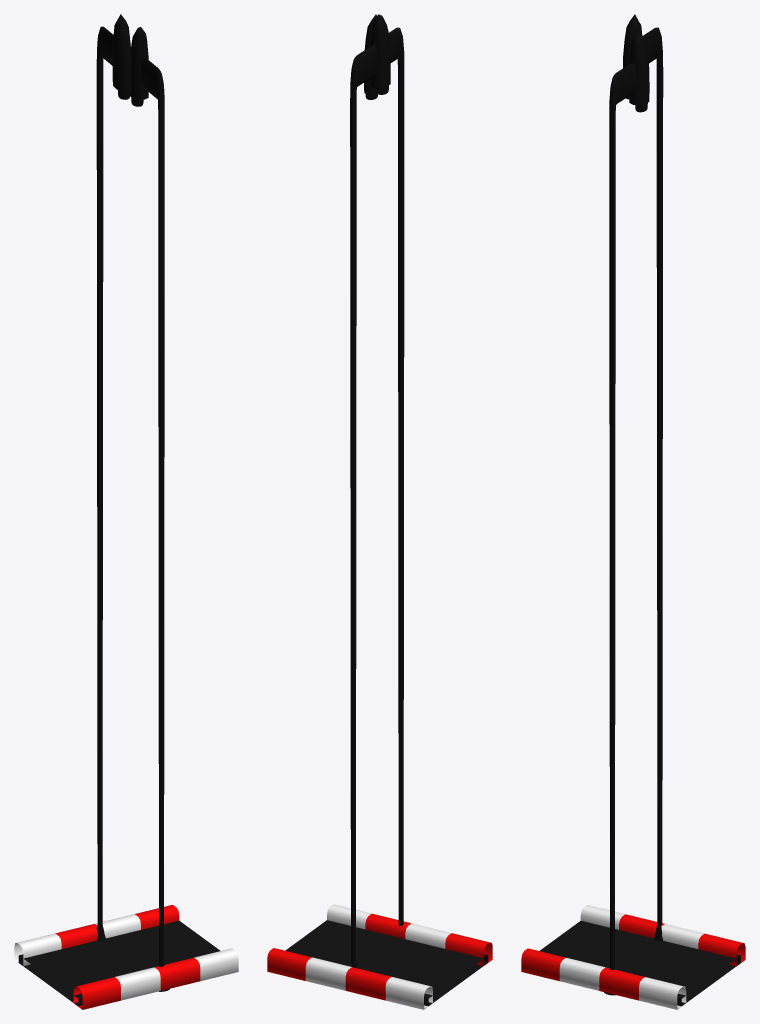
3 renders of one model, left to right at view 1: azimuth 30°, elevation 25°; view 2: azimuth 150°, elevation 25°; view 3: azimuth 330°, elevation 25°, orthographic.
Visible parts, largest first — view 1: StraightTrack01_Cube.001_StraightTrack01_Cube.001_StraightTrack0, rightLight_rightLight_rightLight_rightLight_rightLight_rightLig_, leftLight_leftLight_leftLight_leftLight_leftLight_leftLight_lef_; view 2: StraightTrack01_Cube.001_StraightTrack01_Cube.001_StraightTrack0, rightLight_rightLight_rightLight_rightLight_rightLight_rightLig_, leftLight_leftLight_leftLight_leftLight_leftLight_leftLight_lef_; view 3: StraightTrack01_Cube.001_StraightTrack01_Cube.001_StraightTrack0, leftLight_leftLight_leftLight_leftLight_leftLight_leftLight_lef_, rightLight_rightLight_rightLight_rightLight_rightLight_rightLig_.
Part boxes in pixels (box(x1,y1,x2,y2)): StraightTrack01_Cube.001_StraightTrack01_Cube.001_StraightTrack0: box(14, 905, 238, 1009); rightLight_rightLight_rightLight_rightLight_rightLight_rightLig_: box(96, 14, 131, 940); leftLight_leftLight_leftLight_leftLight_leftLight_leftLight_lef_: box(130, 27, 164, 966); StraightTrack01_Cube.001_StraightTrack01_Cube.001_StraightTrack0: box(267, 904, 492, 1009); rightLight_rightLight_rightLight_rightLight_rightLight_rightLig_: box(350, 14, 390, 967); leftLight_leftLight_leftLight_leftLight_leftLight_leftLight_lef_: box(364, 14, 404, 925); StraightTrack01_Cube.001_StraightTrack01_Cube.001_StraightTrack0: box(521, 905, 745, 1009); leftLight_leftLight_leftLight_leftLight_leftLight_leftLight_lef_: box(609, 32, 649, 969); rightLight_rightLight_rightLight_rightLight_rightLight_rightLig_: box(623, 14, 663, 940).
Bounding box in the file's own units: 15.29 × 89.34 × 11.61.
